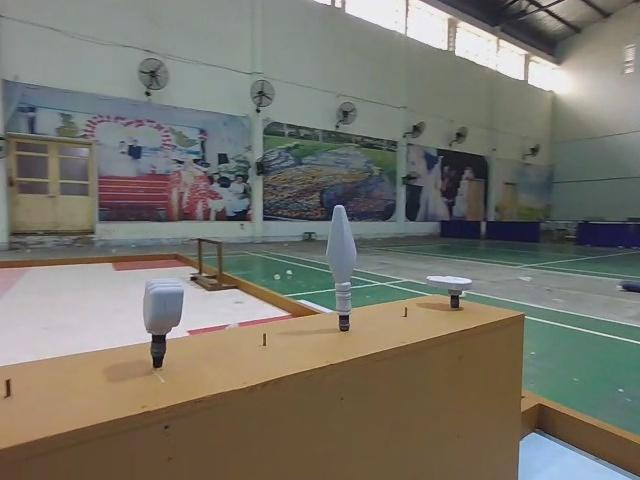Fist: (140, 277, 186, 373)
Hand: (424, 272, 471, 307)
Sph: (327, 201, 361, 334)
